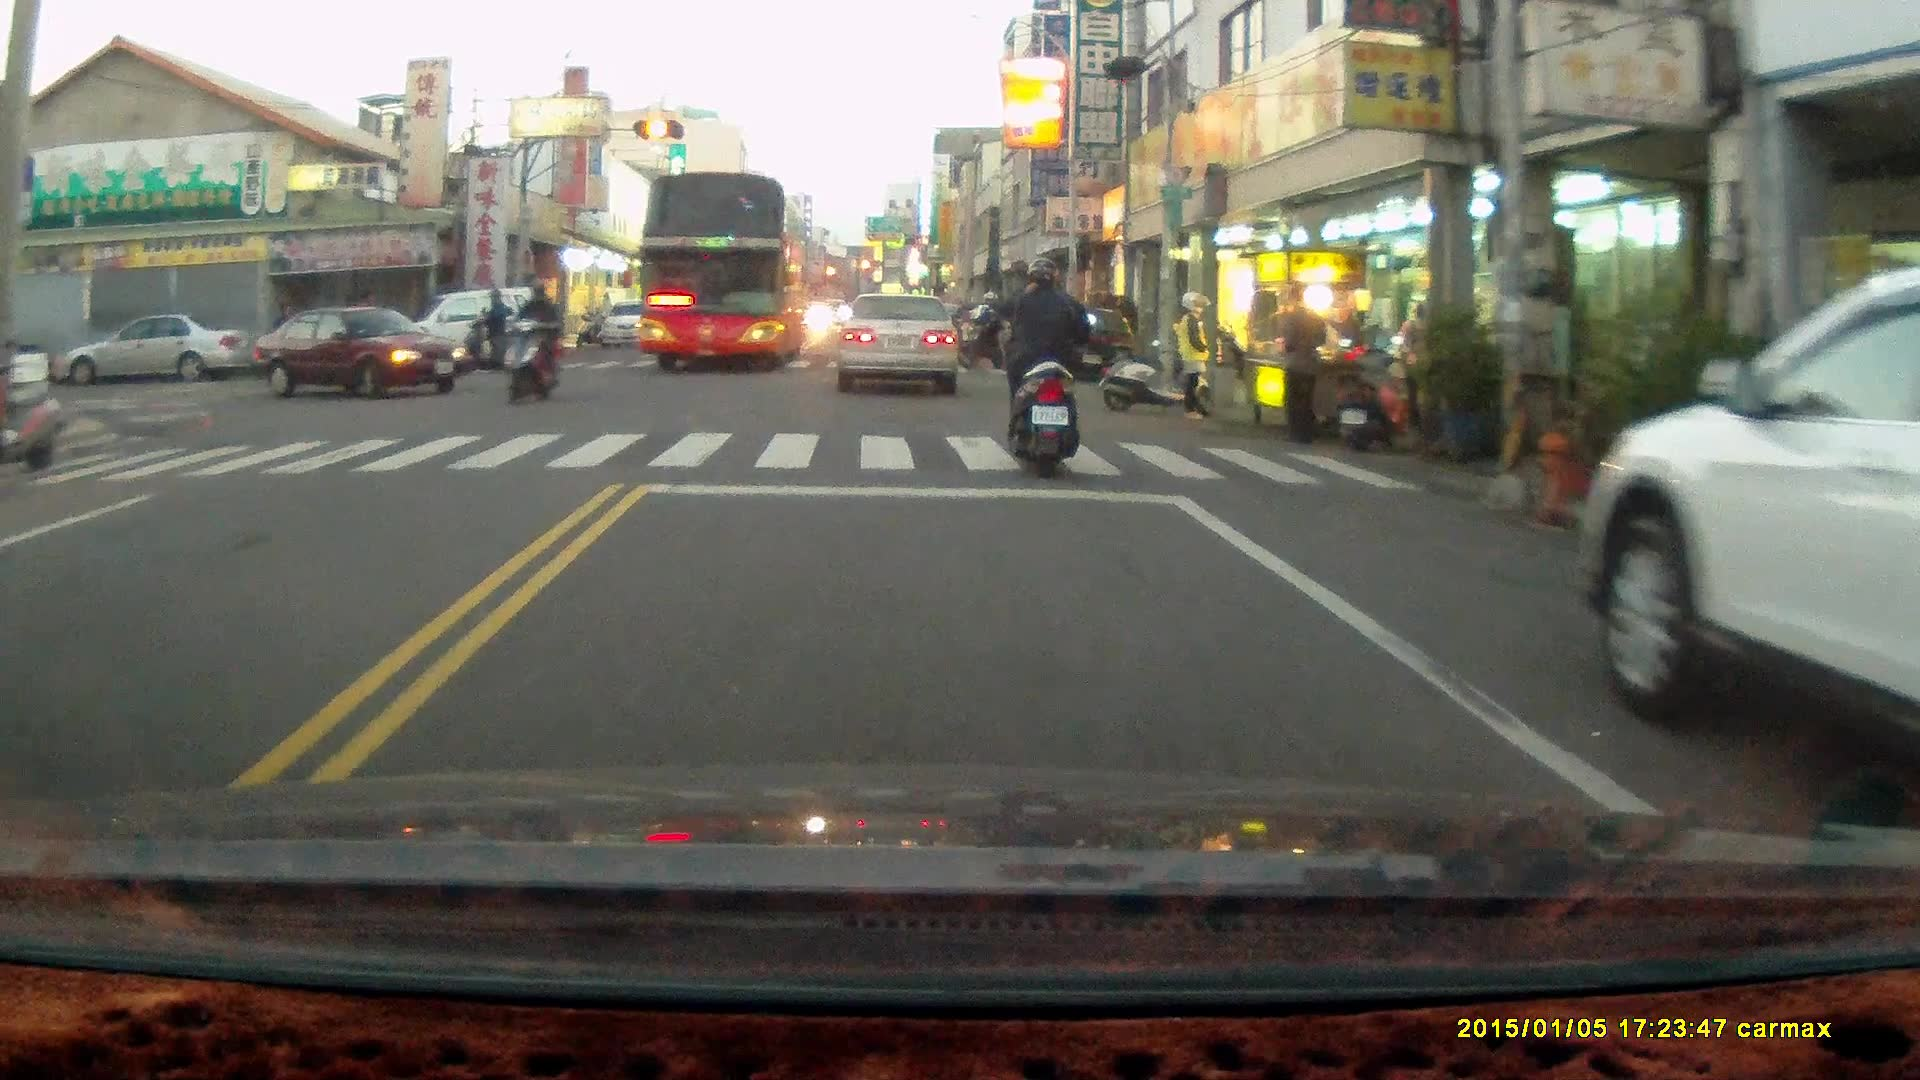pedestrian: (1276, 276, 1325, 442), (1170, 281, 1210, 416)
rider: (992, 245, 1098, 472), (502, 274, 559, 404), (458, 285, 517, 368), (956, 286, 1014, 368)
vehicle: (1571, 276, 1920, 828), (638, 172, 805, 376), (255, 301, 464, 395), (50, 311, 236, 390), (835, 291, 963, 397), (1043, 300, 1142, 382), (601, 298, 667, 349)
